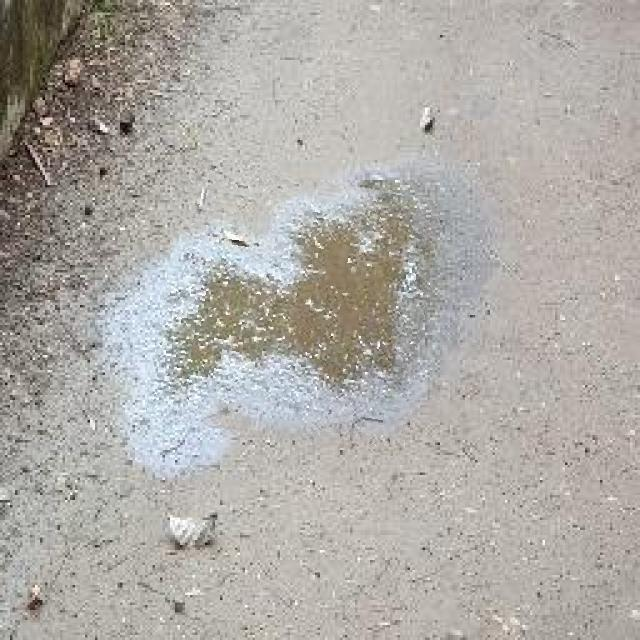puddle: (156, 170, 434, 449)
